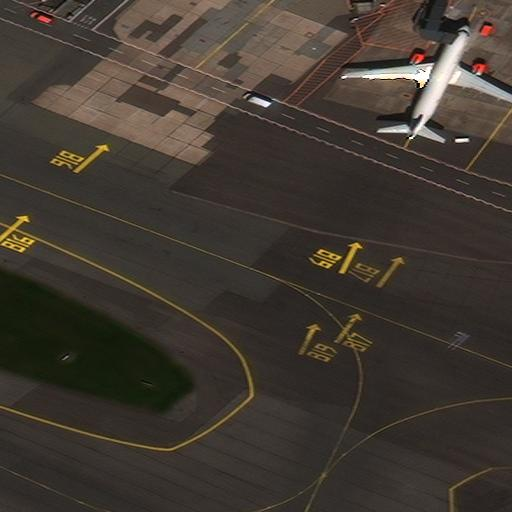Medium Civil Transport: (344, 23, 512, 143)
